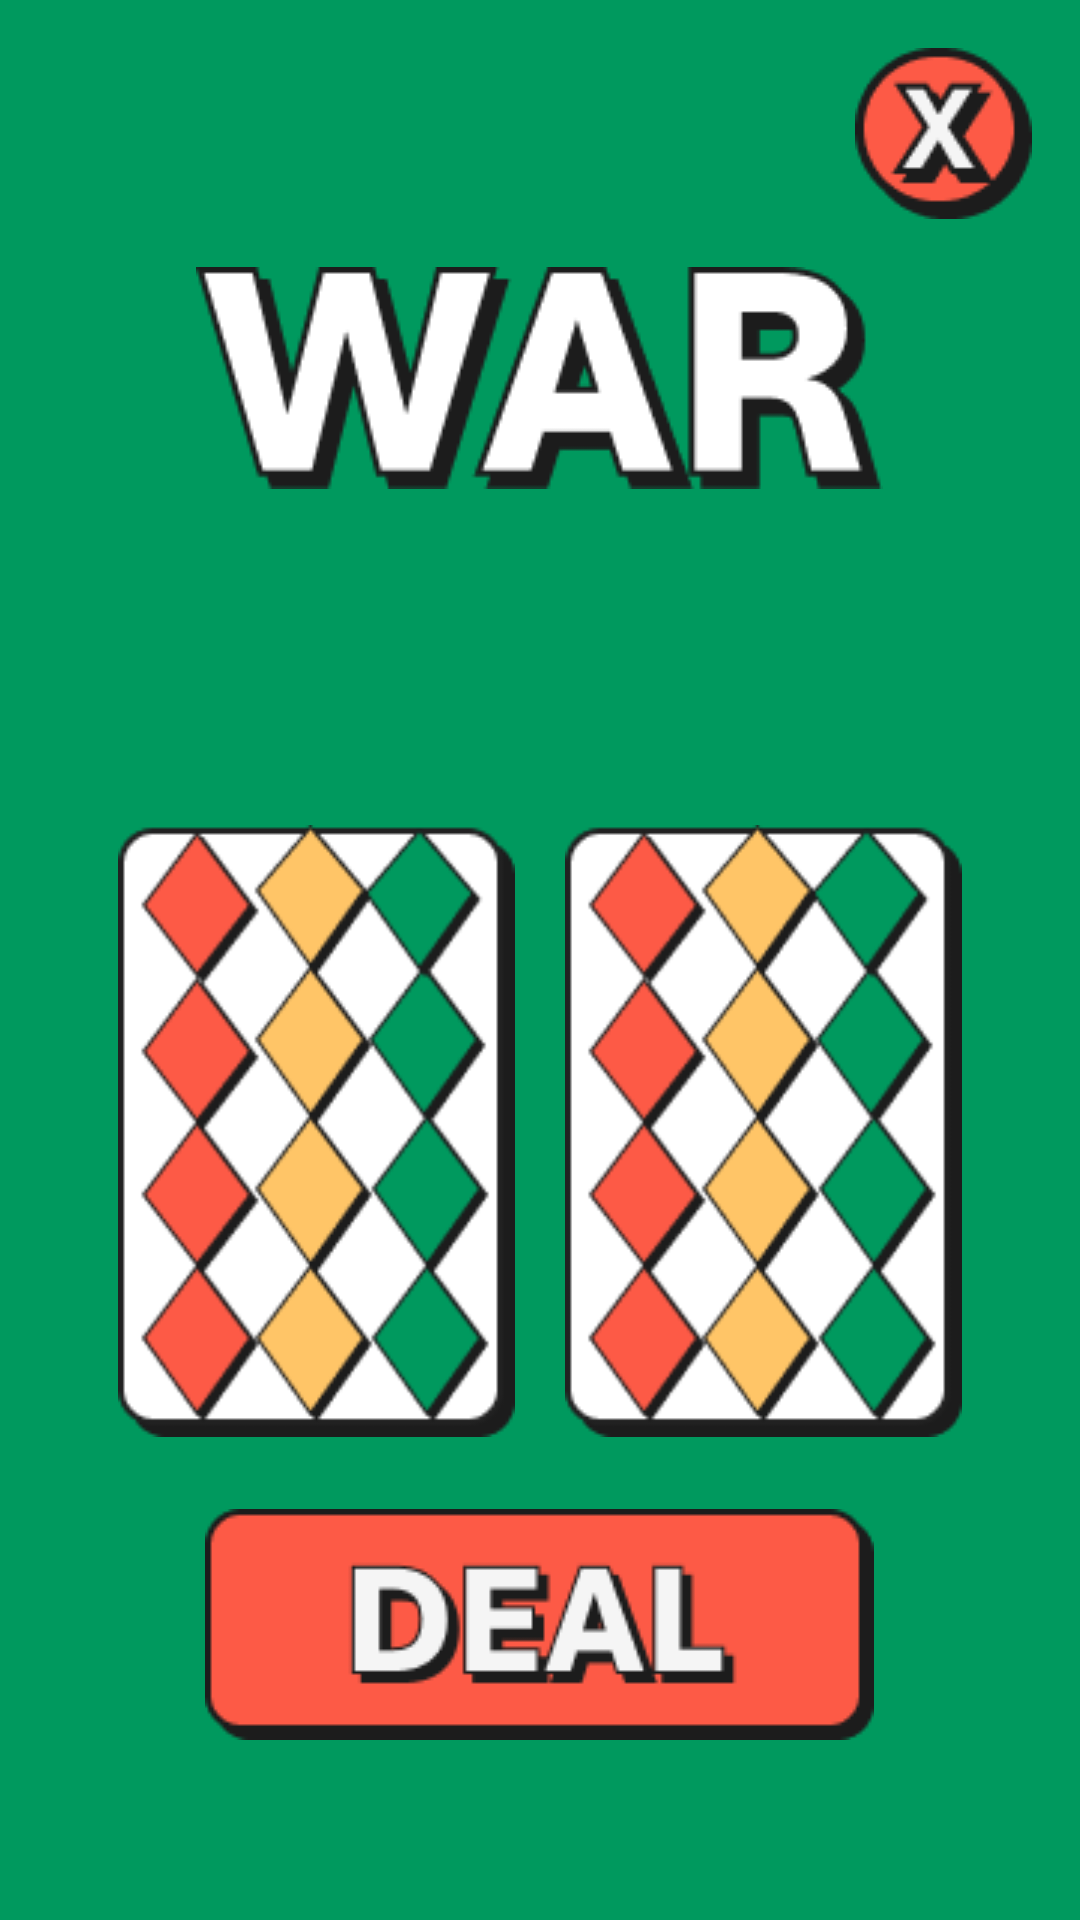

Screen size 1080w x 1920h. Icon name, then its box in pixels as region(x1, y1, x2, y2):
exit: region(855, 48, 1032, 219)
